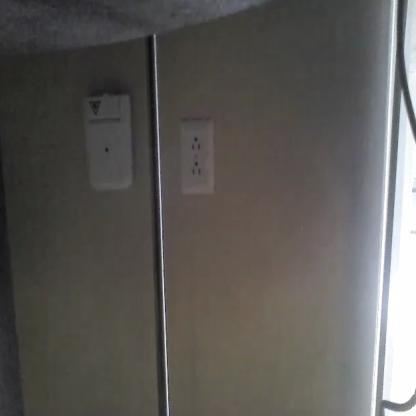OUTLET: (179, 118, 214, 194)
